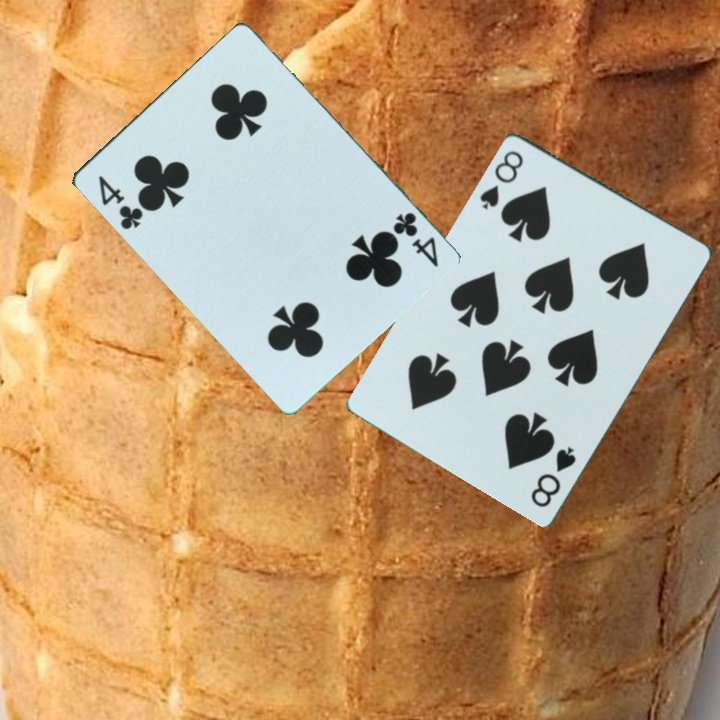4c: (388, 208, 441, 270), (93, 172, 146, 233)
8s: (526, 442, 579, 510), (476, 146, 527, 212)
